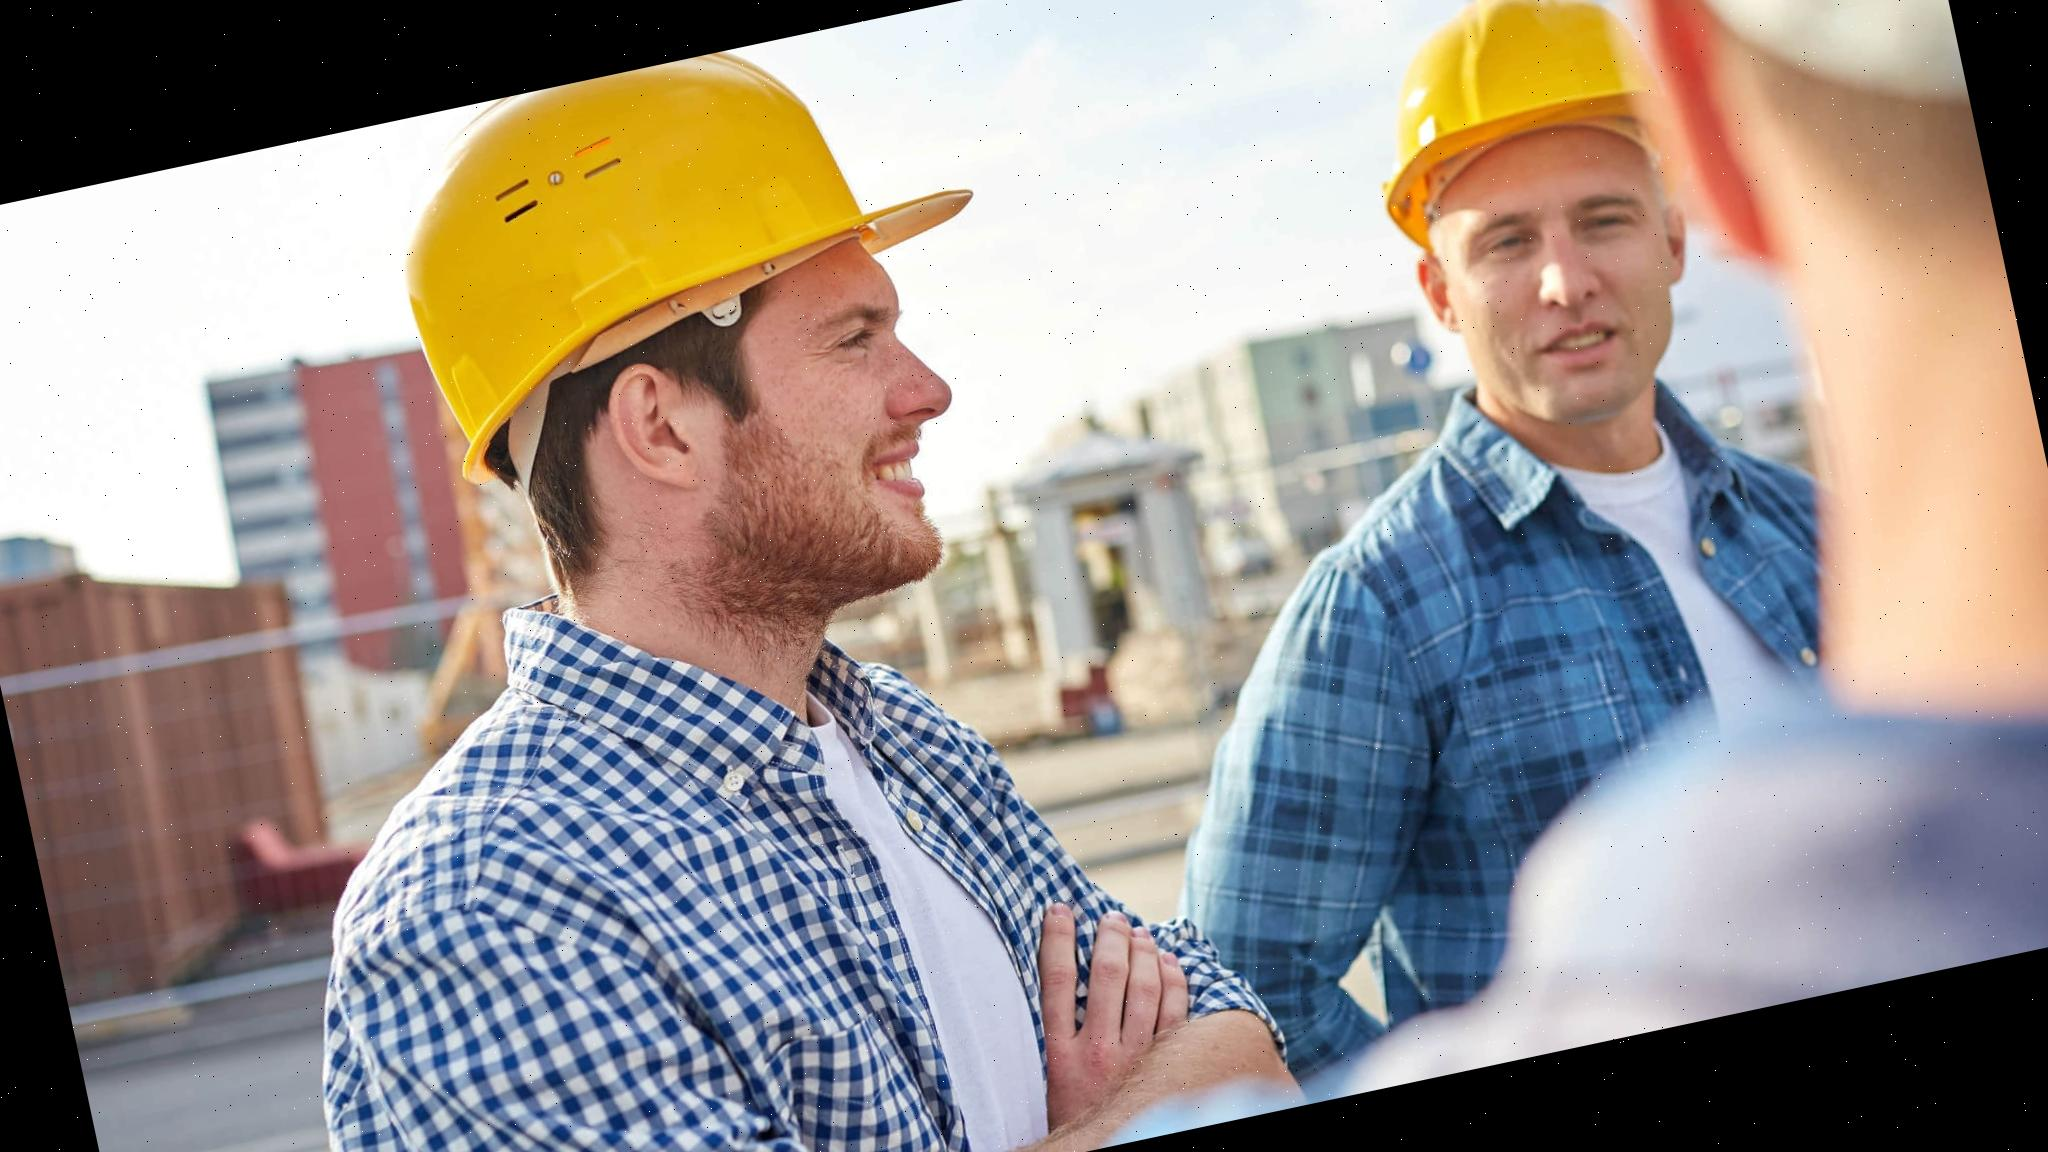helmet: (369, 8, 1011, 491), (1338, 0, 1706, 267)
no_wear: (264, 584, 1295, 1152), (1125, 395, 1909, 1101)
